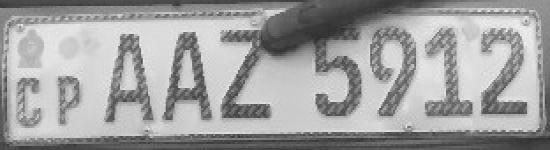1: (420, 20, 475, 126)
2: (475, 19, 530, 122)
5: (308, 21, 369, 125)
9: (366, 20, 422, 123)
A: (90, 31, 160, 126), (159, 28, 215, 128)
C: (13, 74, 46, 132)
P: (50, 70, 88, 130)
Z: (215, 27, 276, 123)
